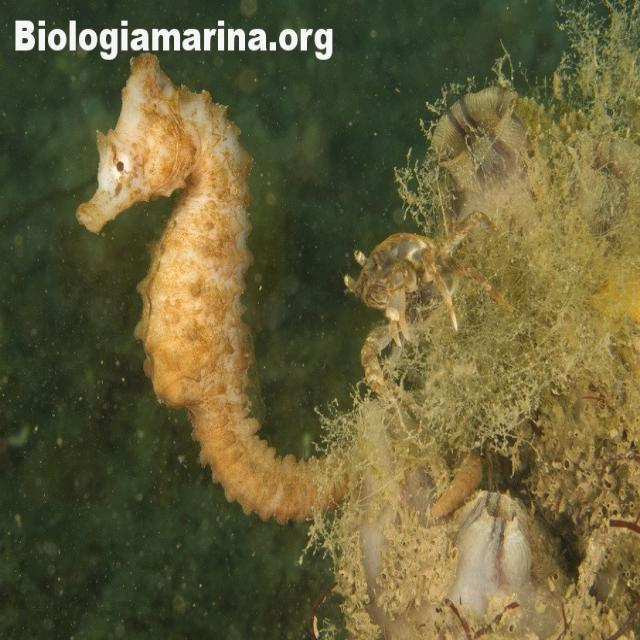Hippo: (69, 50, 195, 238)
